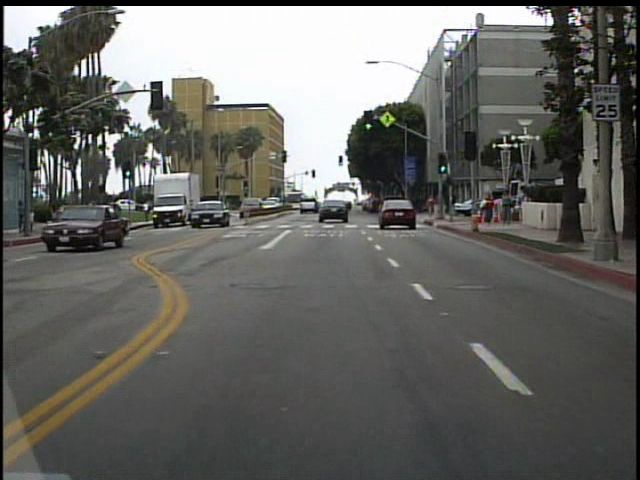person: (82, 194, 99, 237), (423, 193, 438, 218)
